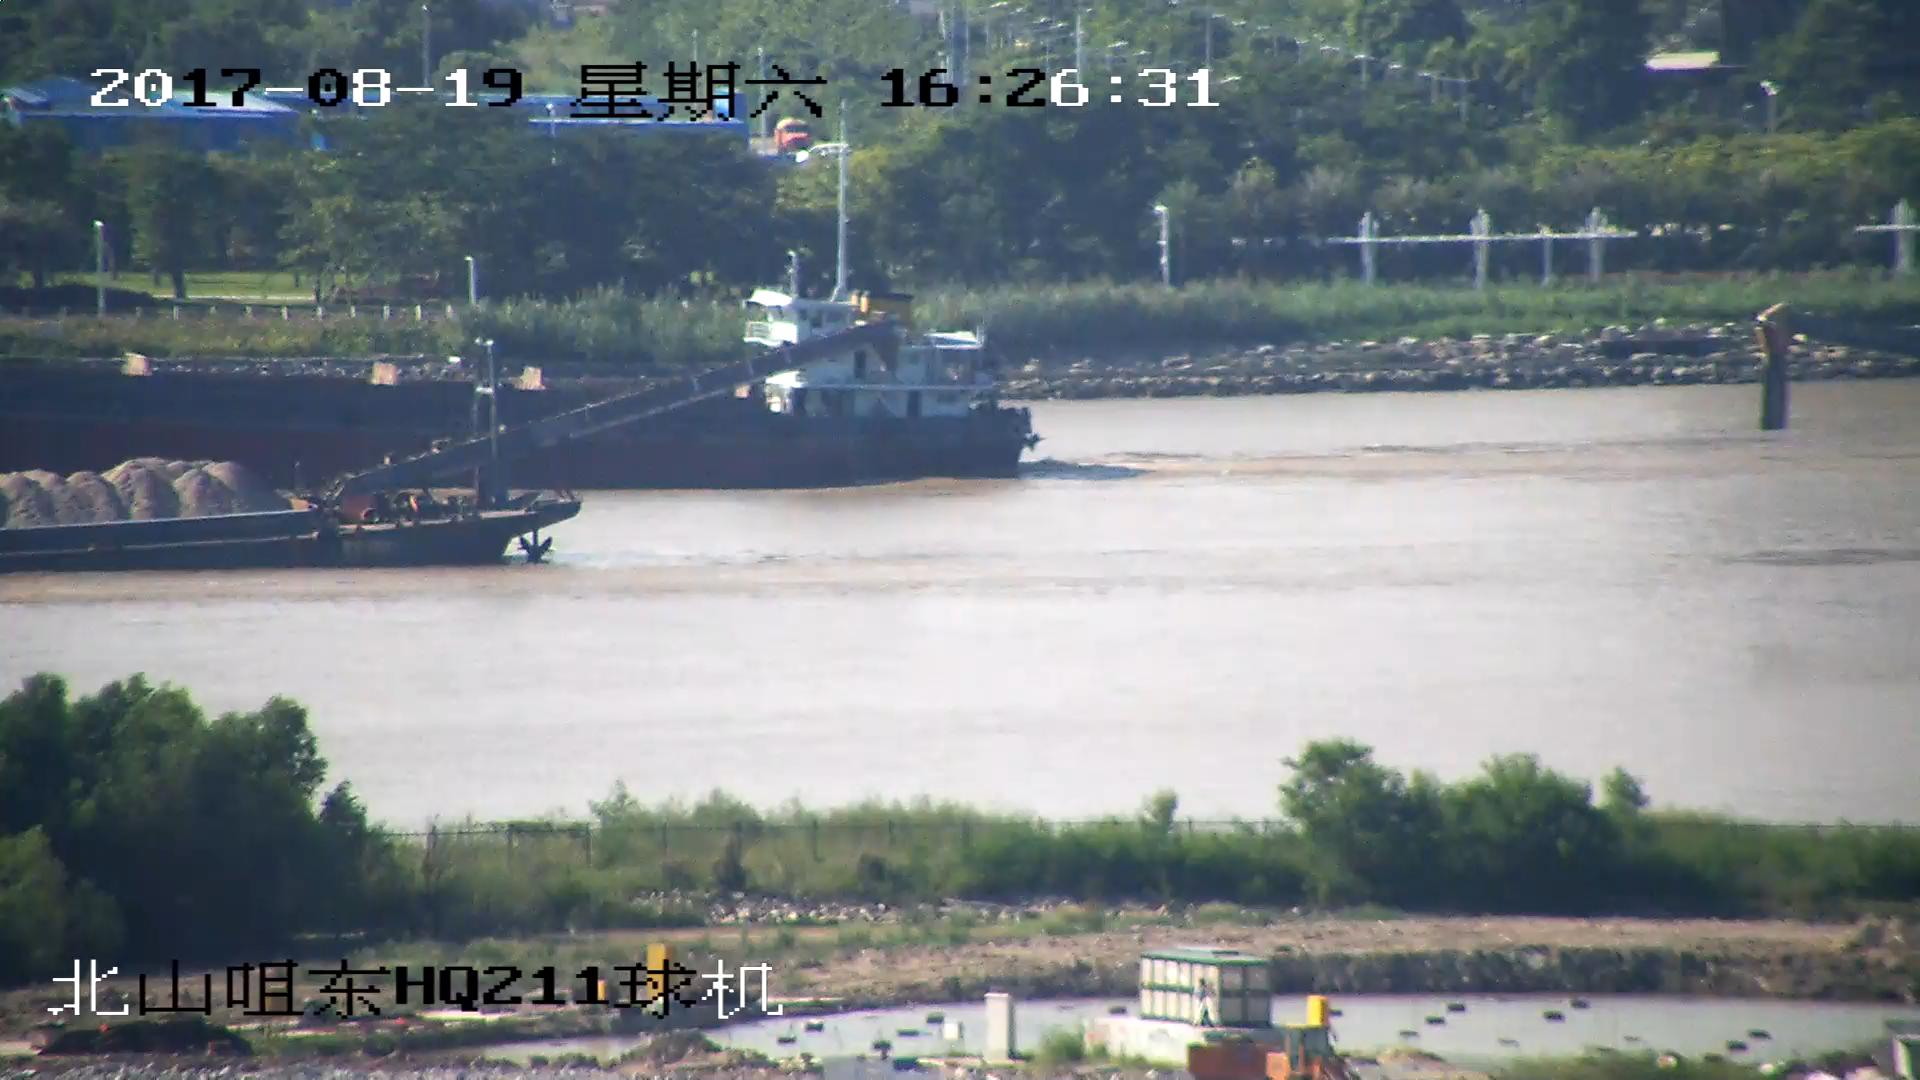bulk cargo carrier: (1, 255, 1030, 484)
ore carrier: (1, 328, 890, 573)
